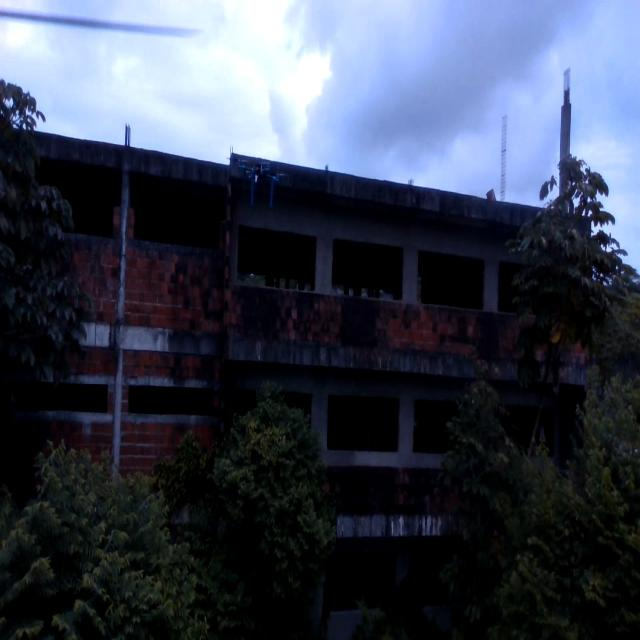-uav-: (239, 151, 283, 212)
